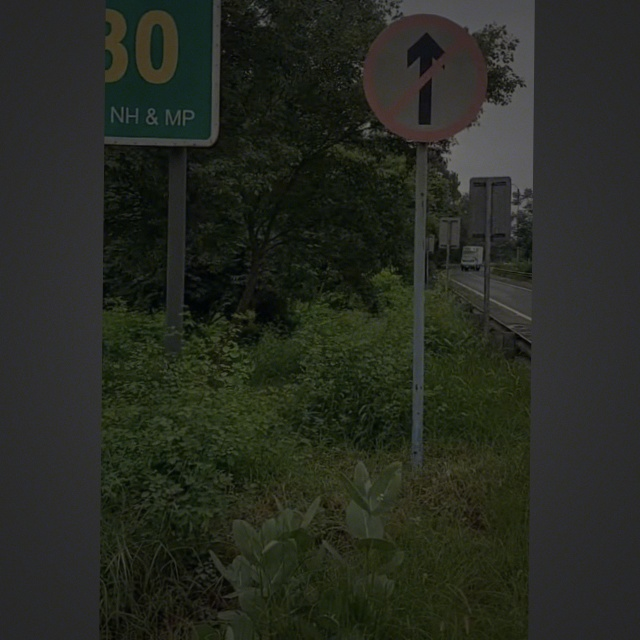No_Entry: (360, 17, 488, 143)
